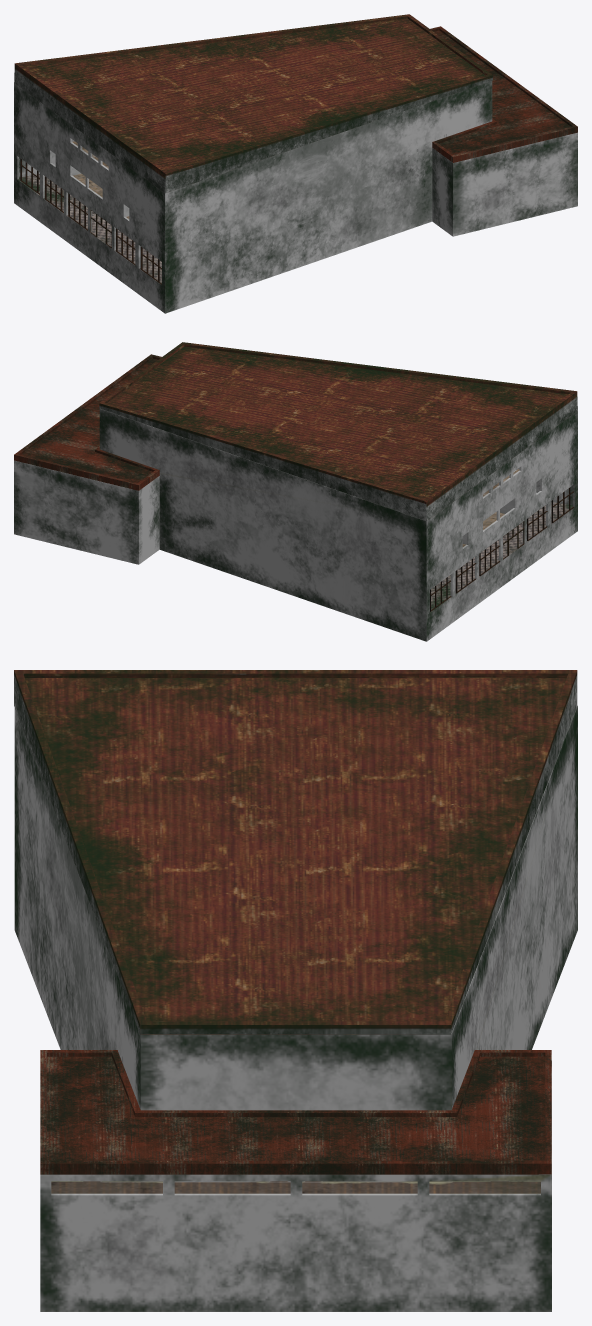
File: cine.fbx
The picture shows the model from 3 angles, top to bottom: view 1: azimuth 30°, elevation 25°; view 2: azimuth 150°, elevation 25°; view 3: azimuth 270°, elevation 25°; orthographic projection. The views are drawn at different scales.
Visible parts, largest first — view 1: EDIFICIOCINE´prueba3.001, TECHODECINEsinuvsss, TECHODECASAsinuvs; view 2: EDIFICIOCINE´prueba3.001, TECHODECINEsinuvsss, TECHODECASAsinuvs; view 3: TECHODECINEsinuvsss, EDIFICIOCINE´prueba3.001, TECHODECASAsinuvs.
Boxes of the visible parts, x1,y1,x2,y2 form: EDIFICIOCINE´prueba3.001: (14,81,577,313); TECHODECINEsinuvsss: (14,14,492,193); TECHODECASAsinuvs: (430,26,577,162); EDIFICIOCINE´prueba3.001: (14,408,577,641); TECHODECINEsinuvsss: (99,342,577,521); TECHODECASAsinuvs: (14,354,161,490); TECHODECINEsinuvsss: (14,670,577,1034); EDIFICIOCINE´prueba3.001: (14,705,577,1311); TECHODECASAsinuvs: (40,1050,551,1174).
Bounding box in the file's own units: 4651 × 1480 × 2903.
